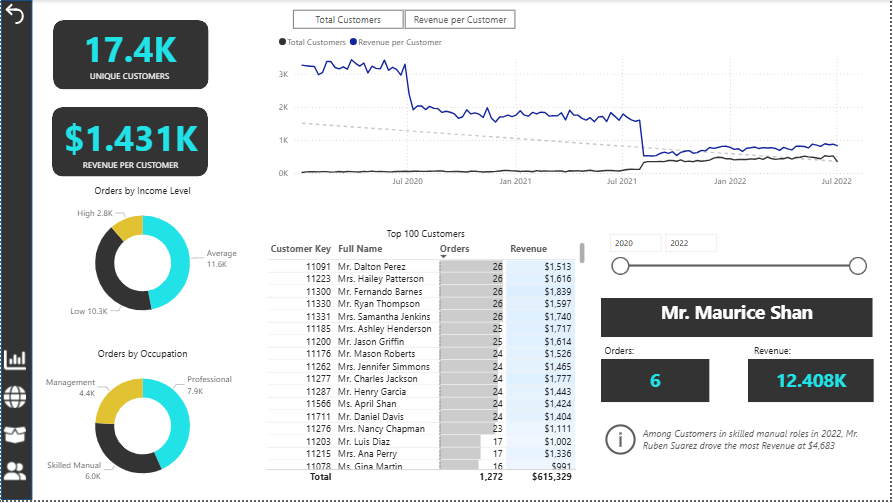

The page's visual inventory and layout, read from the dashboard file:
{"tool":"powerbi","page":{"name":"Customer Detail","canvas":[1280,720],"ordinal":3},"visuals":[{"type":"shape","box":[0,0,45,720.3],"z":0},{"type":"actionButton","box":[0,497.8,44.6,40.3],"z":0,"group":"g1"},{"type":"shape","box":[74.1,154.7,224.6,100],"z":1000},{"type":"actionButton","box":[0,605.3,44.6,40.3],"z":1000,"group":"g1"},{"type":"shape","box":[74.3,28.6,224.3,100],"z":2000},{"type":"actionButton","box":[0,658.2,44.6,40.3],"z":2000,"group":"g1"},{"type":"card","fields":{"Values":["Measure Table.Total Customer"]},"box":[51.4,0,267.1,151.4],"z":3000},{"type":"actionButton","box":[0,551.6,44.6,40.3],"z":3000,"group":"g1"},{"type":"card","fields":{"Values":["Measure Table.Average Revenue per Customer"]},"box":[57.1,128.6,258.6,151.4],"z":4000},{"type":"lineChart","fields":{"Y":["Measure Table.Total Customer","Measure Table.Average Revenue per Customer"],"Category":["Calendar Lookup.Start of Year","Calendar Lookup.Start of Month","Calendar Lookup.End of Week","Calendar Lookup.Date"]},"box":[394.6,40.3,861.1,239],"z":5000},{"type":"donutChart","title":"Orders by Income Level","fields":{"Category":["Customer Lookup.Income Level"],"Y":["Measure Table.Total Orders"]},"box":[57.4,264.7,292.6,210.3],"z":6000},{"type":"donutChart","title":"Orders by Occupation","fields":{"Y":["Measure Table.Total Orders"],"Category":["Customer Lookup.Occupation"]},"box":[57.4,500,292.6,210.3],"z":7000},{"type":"tableEx","title":"Top 100 Customers","fields":{"Values":["Customer Lookup.CustomerKey","Customer Lookup.Full Name","Measure Table.Total Orders","Measure Table.Total Revenue"]},"box":[377.9,326.5,469.1,372.1],"z":8000},{"type":"card","fields":{"Values":["Measure Table.Full Name(Customer Detail)"]},"box":[864.7,412.7,391.2,72.1],"z":9000},{"type":"card","fields":{"Values":["Measure Table.Total Orders (Customer Detail)"]},"box":[864.7,516.6,155.9,61.8],"z":10000},{"type":"card","fields":{"Values":["Measure Table.Total Revenue (Customer Detail)"]},"box":[1075,516.6,180.9,61.8],"z":11000},{"type":"textbox","box":[1075,491.6,119.1,30.9],"z":12000},{"type":"textbox","box":[874.7,391.8,185.3,30.9],"z":13000},{"type":"textbox","box":[864.7,491.6,185.3,30.9],"z":14000},{"type":"slicer","fields":{"Values":["Calendar Lookup.Year"]},"box":[864,326.9,391.7,102.2],"z":15000},{"type":"actionButton","box":[0,0,45.6,39.7],"z":16000},{"type":"actionButton","box":[864,604.8,393.1,56.2],"z":17000},{"type":"group","id":"g1","title":"Navigation Buttons","box":[0,497.8,44.6,200.7],"z":18000},{"type":"slicer","fields":{"Values":["Customer Metric Selection.Customer Metric Selection"]},"box":[394.6,7.2,370.1,40.3],"z":19000}]}

Visuals, with their boxes on the page's 1280x720 design canvas (x1, y1, x2, y2). These are canvas units, not pixel positions in the 893x503 screenshot, which may show the page scaled, cropped or inside an application window:
shape: pyautogui.locateOnScreen(0, 0, 45, 720)
actionButton: pyautogui.locateOnScreen(0, 498, 45, 538)
shape: pyautogui.locateOnScreen(74, 155, 299, 255)
actionButton: pyautogui.locateOnScreen(0, 605, 45, 646)
shape: pyautogui.locateOnScreen(74, 29, 299, 129)
actionButton: pyautogui.locateOnScreen(0, 658, 45, 698)
card - Measure Table.Total Customer: pyautogui.locateOnScreen(51, 0, 318, 151)
actionButton: pyautogui.locateOnScreen(0, 552, 45, 592)
card - Measure Table.Average Revenue per Customer: pyautogui.locateOnScreen(57, 129, 316, 280)
lineChart - Measure Table.Total Customer x Measure Table.Average Revenue per Customer: pyautogui.locateOnScreen(395, 40, 1256, 279)
"Orders by Income Level" donutChart: pyautogui.locateOnScreen(57, 265, 350, 475)
"Orders by Occupation" donutChart: pyautogui.locateOnScreen(57, 500, 350, 710)
"Top 100 Customers" tableEx: pyautogui.locateOnScreen(378, 326, 847, 699)
card - Measure Table.Full Name(Customer Detail): pyautogui.locateOnScreen(865, 413, 1256, 485)
card - Measure Table.Total Orders (Customer Detail): pyautogui.locateOnScreen(865, 517, 1021, 578)
card - Measure Table.Total Revenue (Customer Detail): pyautogui.locateOnScreen(1075, 517, 1256, 578)
textbox: pyautogui.locateOnScreen(1075, 492, 1194, 522)
textbox: pyautogui.locateOnScreen(875, 392, 1060, 423)
textbox: pyautogui.locateOnScreen(865, 492, 1050, 522)
slicer - Calendar Lookup.Year: pyautogui.locateOnScreen(864, 327, 1256, 429)
actionButton: pyautogui.locateOnScreen(0, 0, 46, 40)
actionButton: pyautogui.locateOnScreen(864, 605, 1257, 661)
"Navigation Buttons" group: pyautogui.locateOnScreen(0, 498, 45, 698)
slicer - Customer Metric Selection.Customer Metric Selection: pyautogui.locateOnScreen(395, 7, 765, 48)
